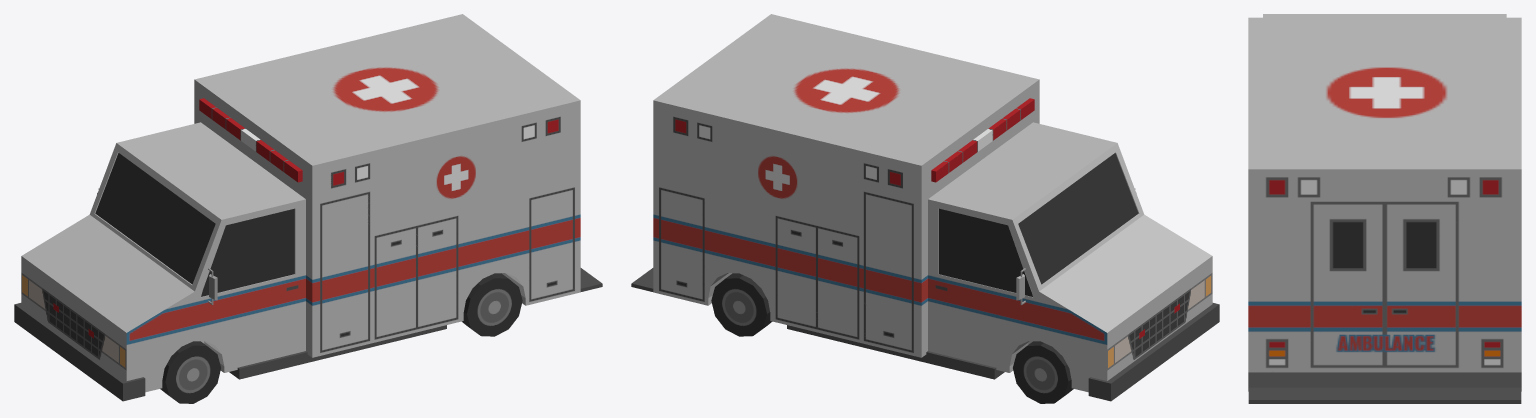
The model's file is ambulance.gltf.
3 views of the same model, side by side, from view 1: azimuth 30°, elevation 25°; view 2: azimuth 150°, elevation 25°; view 3: azimuth 270°, elevation 25° (orthographic). The views are drawn at different scales.
Parts seen in each view (by area): view 1: ambulance; view 2: ambulance; view 3: ambulance.
Part boxes in pixels (bbox=[...]): ambulance: bbox=[14, 14, 602, 403]; ambulance: bbox=[631, 14, 1219, 403]; ambulance: bbox=[1248, 14, 1521, 403].
Bounding box in the file's own units: 6.81 × 2.95 × 2.93.
Materials: 1 (1 with a texture image).
